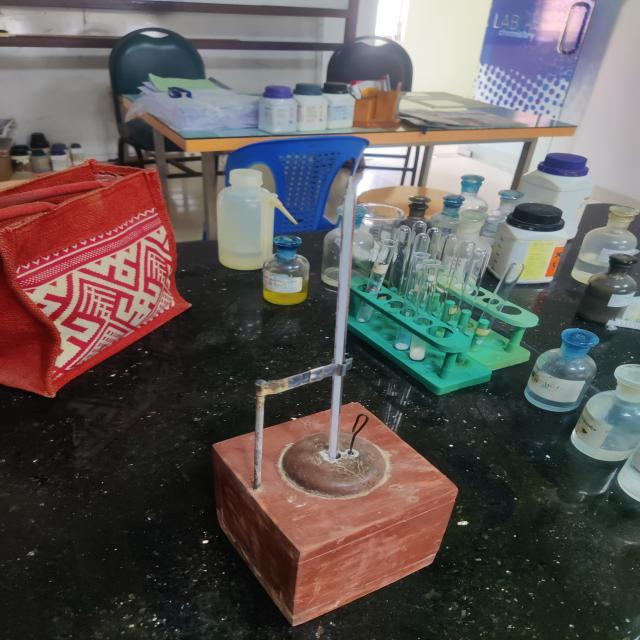Calorimeter: (127, 157, 502, 633)
